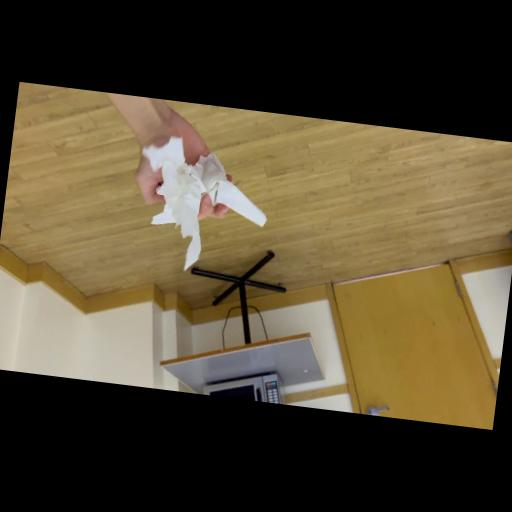napkin: (132, 129, 280, 280)
